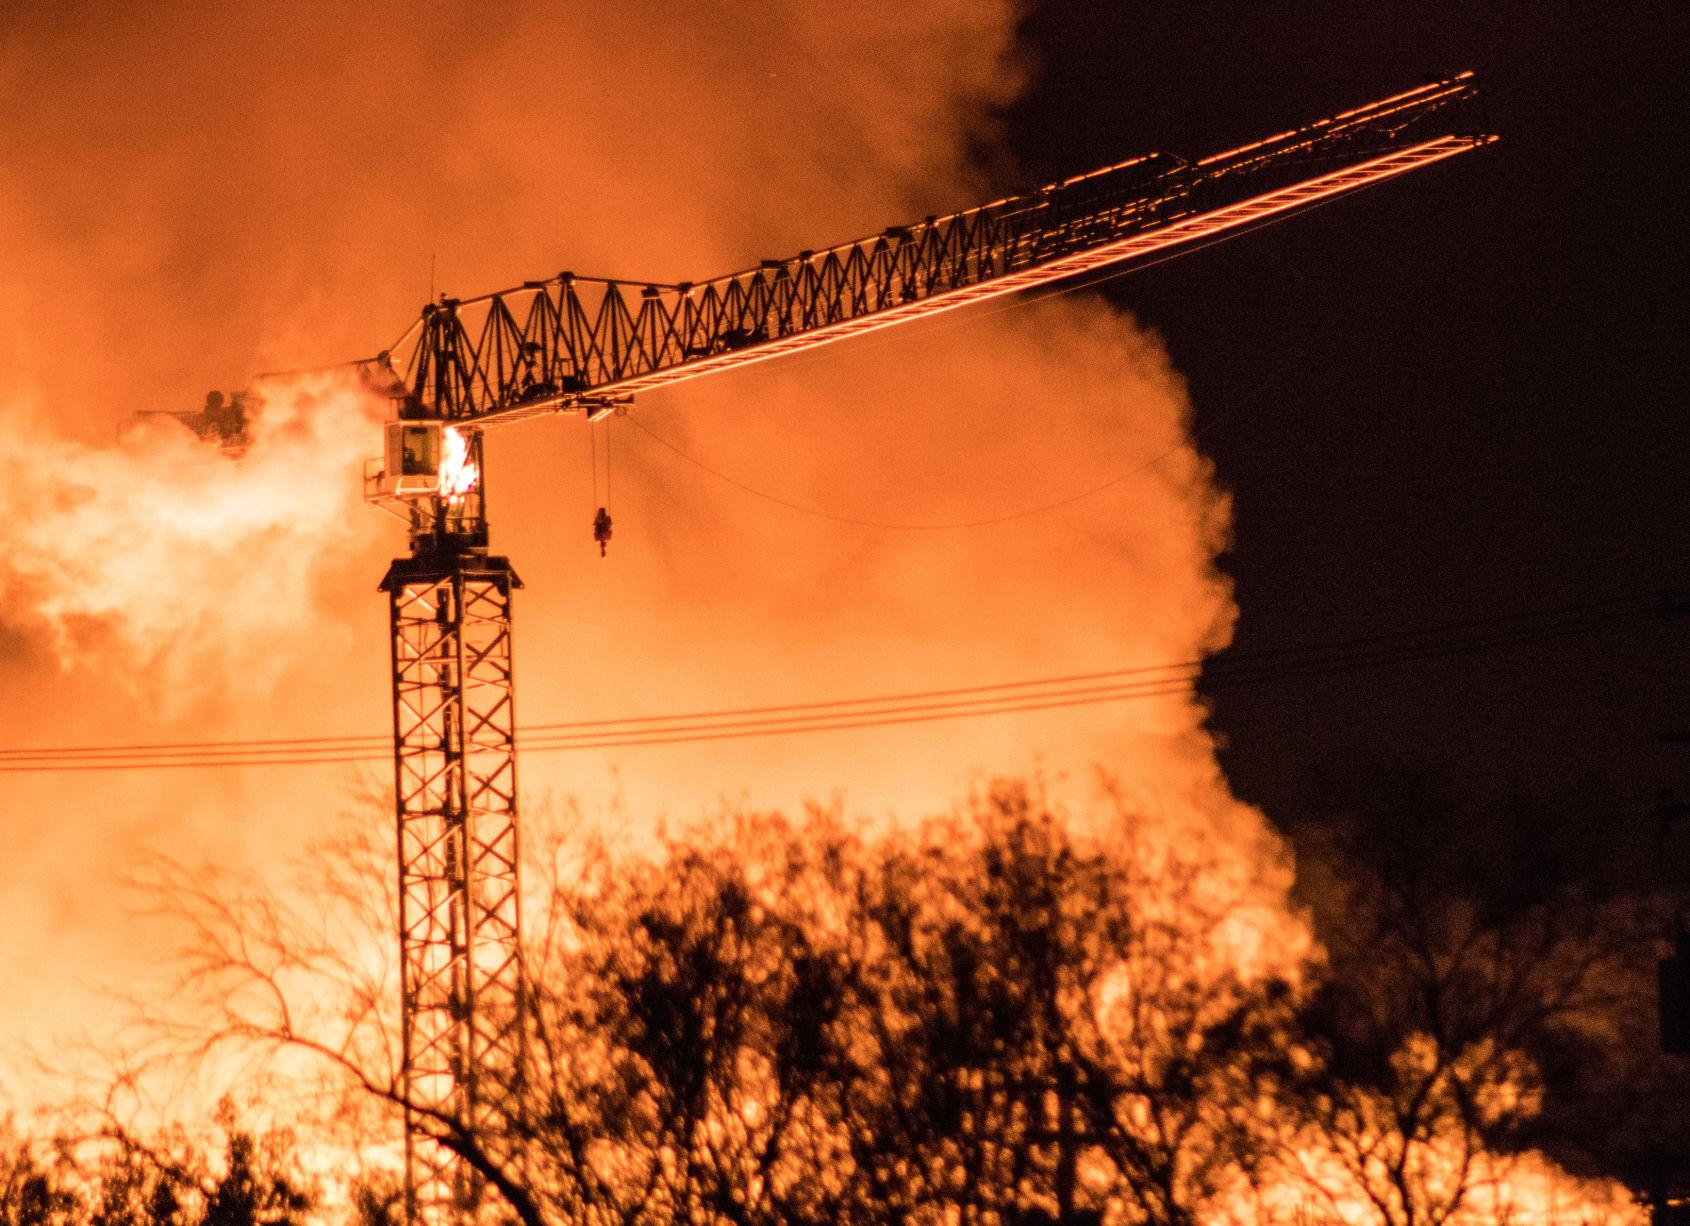Fire: (3, 260, 1384, 1226)
